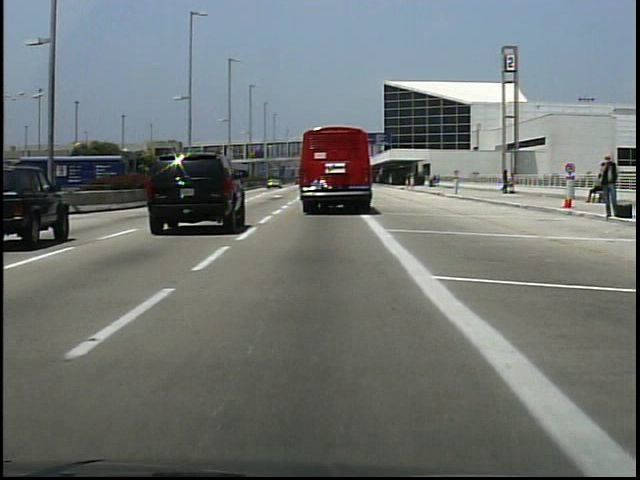person: (595, 151, 623, 222), (582, 169, 606, 205)
